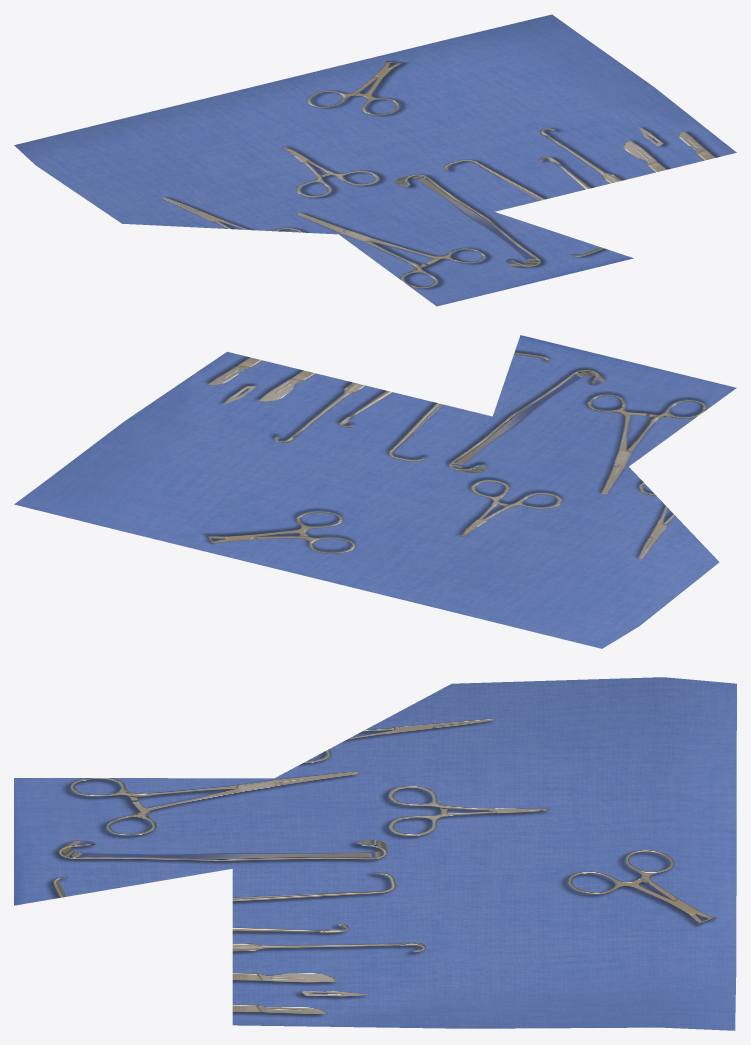
The model's file is RightSideFinalPatch.fbx.
3 views of the same model, one above another, from view 1: azimuth 30°, elevation 25°; view 2: azimuth 150°, elevation 25°; view 3: azimuth 270°, elevation 25° (orthographic). The views are drawn at different scales.
Visible parts, largest first — view 1: RightSideTable; view 2: RightSideTable; view 3: RightSideTable.
Boxes of the visible parts, x1,y1,x2,y2 form: RightSideTable: (14,14,736,306); RightSideTable: (14,335,736,648); RightSideTable: (14,677,736,1030).
Size of the model in its own units: 0.4986 by 0.00167 by 0.4332.
Materials: 1 (1 with a texture image).
